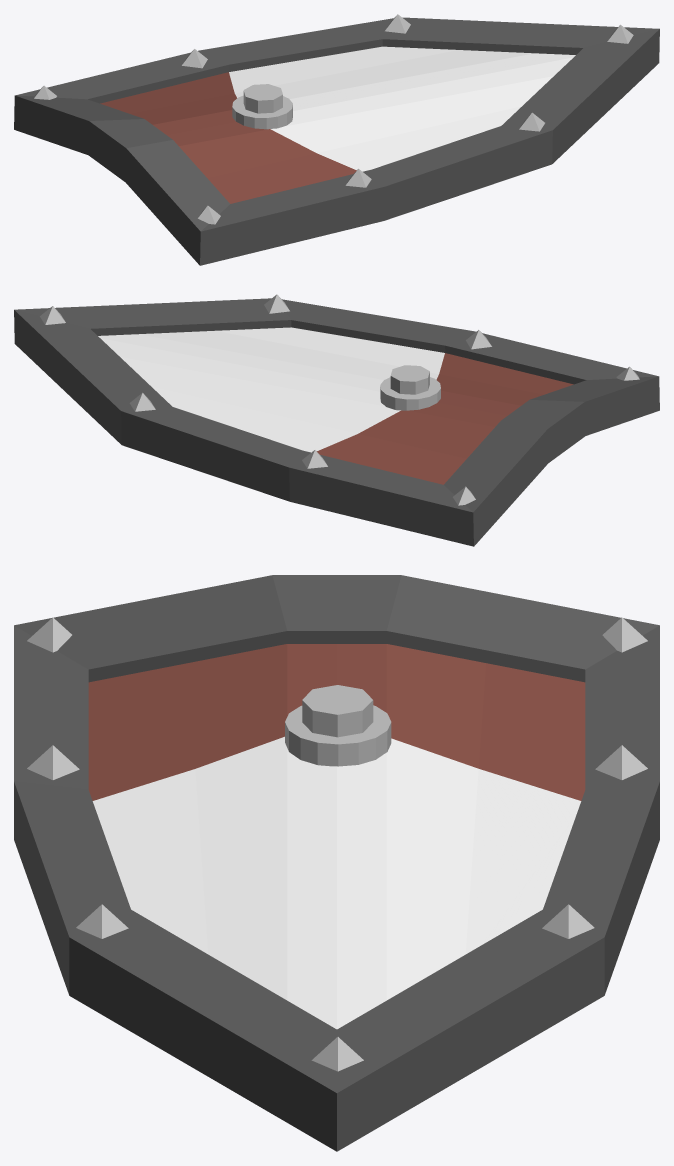
File: Shield_4_c_r.fbx
The picture shows the model from 3 angles, top to bottom: view 1: azimuth 30°, elevation 25°; view 2: azimuth 150°, elevation 25°; view 3: azimuth 270°, elevation 25°; orthographic projection. The views are drawn at different scales.
Visible parts, largest first — view 1: Plane.009, Plane.027, Plane.008, Circle.015, Circle.016; view 2: Plane.009, Plane.027, Plane.008, Circle.015, Circle.016; view 3: Plane.009, Plane.027, Plane.008, Circle.015, Circle.016, Cone.008, Cone.002, Cone.012, Cone.011, Cone.013, Cone.010, Cone.009.
Boxes of the visible parts, x1,y1,x2,y2 form: Plane.009: (14, 17, 659, 265); Plane.027: (229, 46, 575, 171); Plane.008: (100, 72, 356, 203); Circle.015: (232, 95, 292, 129); Circle.016: (243, 84, 282, 113); Plane.009: (14, 298, 659, 546); Plane.027: (98, 327, 444, 452); Plane.008: (317, 353, 573, 484); Circle.015: (380, 377, 440, 410); Circle.016: (390, 365, 429, 394); Plane.009: (14, 575, 659, 1151); Plane.027: (92, 736, 581, 1029); Plane.008: (88, 644, 585, 800); Circle.015: (285, 705, 391, 766); Circle.016: (302, 685, 373, 737); Cone.008: (27, 745, 79, 779); Cone.002: (595, 745, 647, 779); Cone.012: (542, 904, 594, 938); Cone.011: (76, 904, 128, 938); Cone.013: (311, 1037, 363, 1071); Cone.010: (602, 617, 647, 652); Cone.009: (27, 617, 71, 652).
Size of the model in its own units: 78.1 by 17.09 by 45.5.
